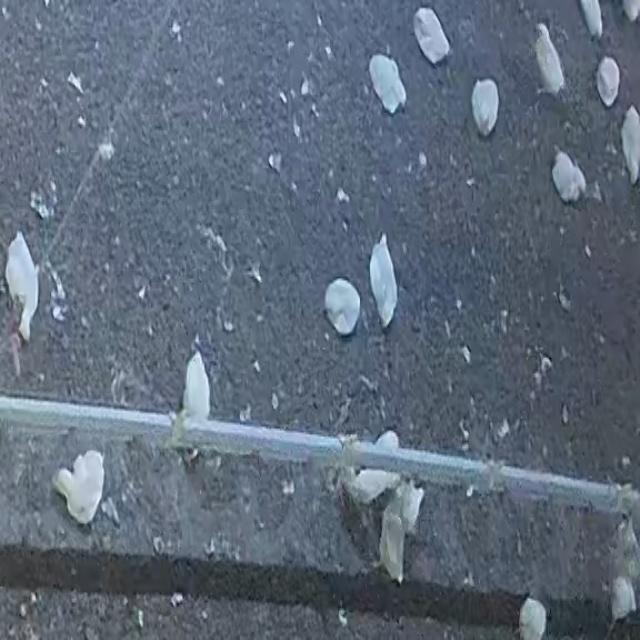chicken: (52, 449, 106, 525), (5, 232, 40, 344), (370, 230, 401, 324), (180, 351, 212, 428), (318, 275, 361, 332), (533, 24, 565, 96), (412, 5, 451, 64), (368, 54, 407, 113), (379, 504, 407, 584), (615, 102, 640, 183), (551, 149, 588, 203), (470, 77, 500, 135), (596, 56, 622, 108)
